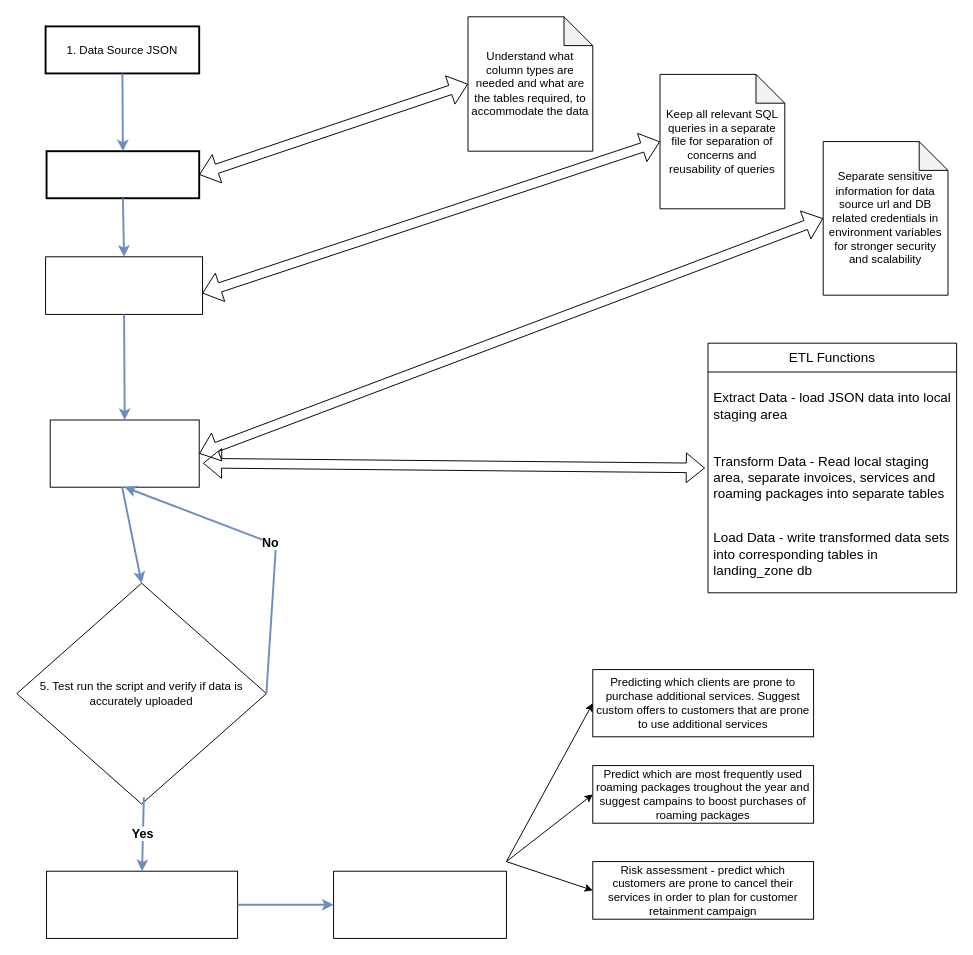
This 973x955 diagram has some shape labels left out. Here are the shapes that lost their labels. From the top down, the centre of each, then its label:
At pixel 122 174: "2. Analyze data types".
At pixel 124 285: "3. Create/Update SQL Schemas".
At pixel 124 453: "4. Create ETL script that runs data modification logic".
At pixel 142 904: "6. Create etl_dag script to automate the ETL execution".
At pixel 419 904: "Using ML training models to get further insights from the data".
